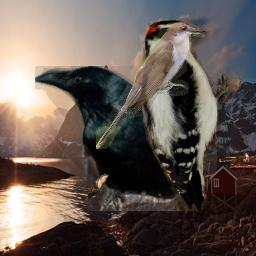Crow: (35, 66, 217, 211)
Cuckoo: (96, 22, 205, 149), (85, 174, 109, 202)
Woodpecker: (142, 20, 241, 211)
